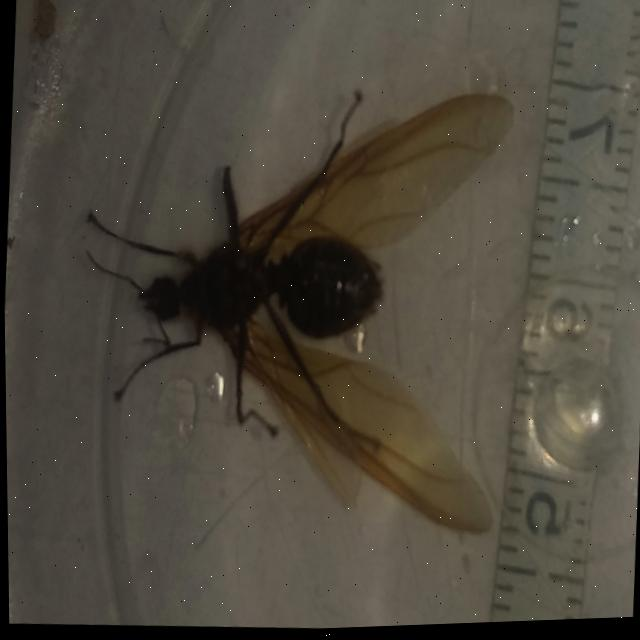Dead-Male-Alate: (68, 72, 520, 552)
